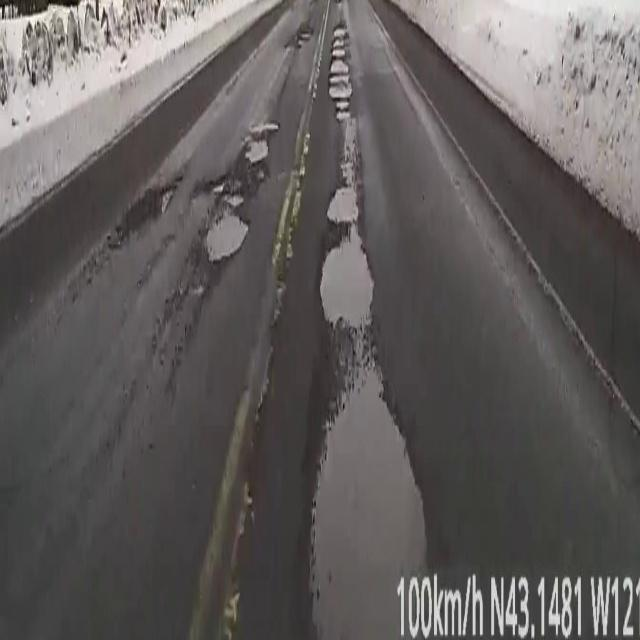pothole: (320, 26, 373, 333), (311, 464, 425, 582), (206, 210, 247, 261), (245, 118, 279, 176)
